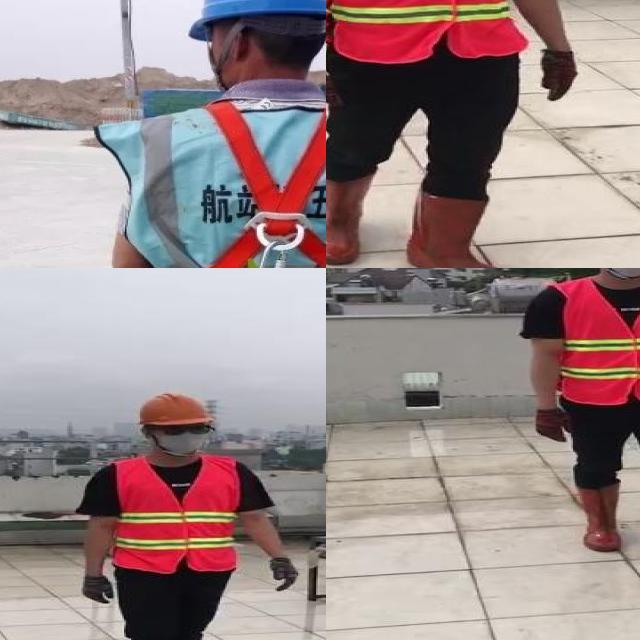Harness: (144, 105, 326, 268)
boots: (406, 189, 520, 268), (326, 170, 378, 263), (575, 483, 623, 549)
face_mask: (157, 421, 210, 454)
glasses: (152, 421, 213, 437)
hand_glove: (536, 49, 581, 101), (534, 409, 569, 444), (268, 556, 300, 592), (326, 69, 344, 121), (80, 576, 115, 602)
head_helmet: (135, 390, 218, 428)
person: (326, 0, 602, 268), (65, 382, 312, 640), (521, 268, 640, 593)
vest: (113, 452, 243, 572), (326, 0, 524, 59), (552, 278, 640, 403)
